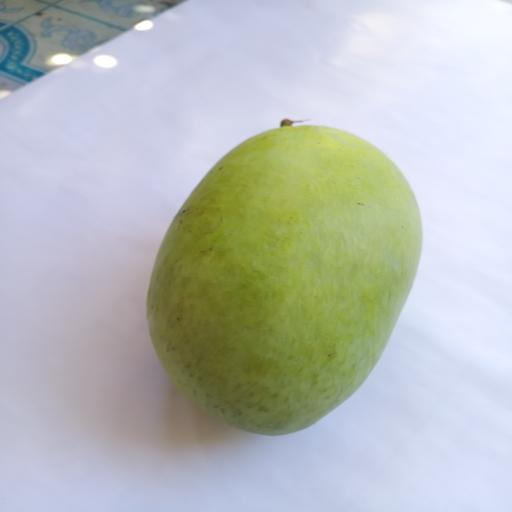mango-unripe: (132, 98, 443, 451)
